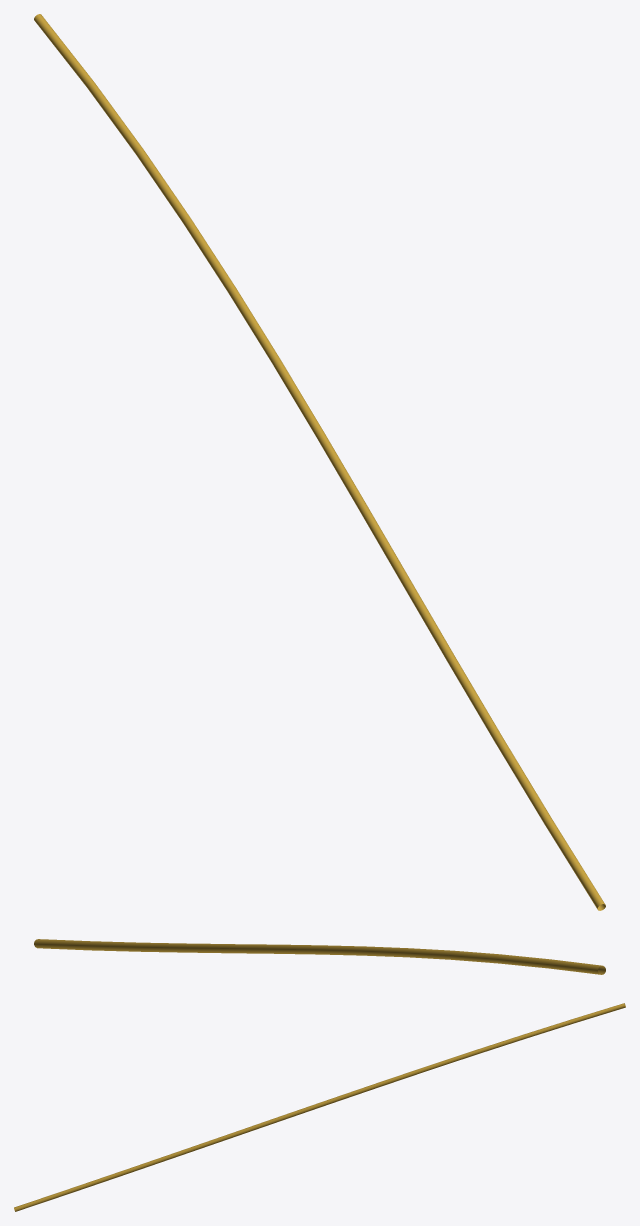
3 renders of one model, top to bottom at view 1: azimuth 30°, elevation 25°; view 2: azimuth 210°, elevation 25°; view 3: azimuth 270°, elevation 25°, orthographic. The views are drawn at different scales.
Visible parts, largest first — view 1: 右侧腓肠内侧皮神经; view 2: 右侧腓肠内侧皮神经; view 3: 右侧腓肠内侧皮神经.
Boxes of the visible parts, <box> form: 右侧腓肠内侧皮神经: <box>34,14,605,910</box>; 右侧腓肠内侧皮神经: <box>34,939,605,974</box>; 右侧腓肠内侧皮神经: <box>14,1003,625,1211</box>.
Size of the model in its own units: 0.0102 by 0.0761 by 0.1919.
